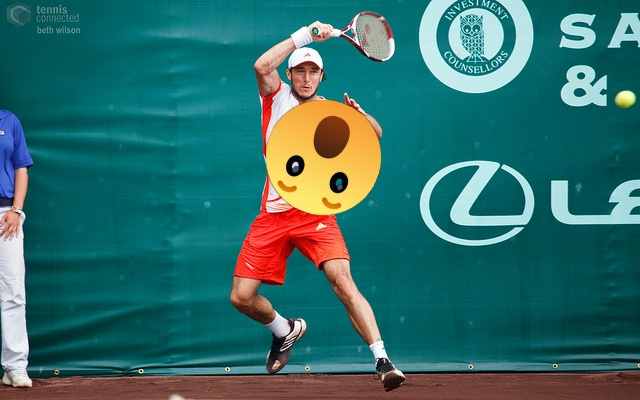wow: (266, 100, 381, 215)
